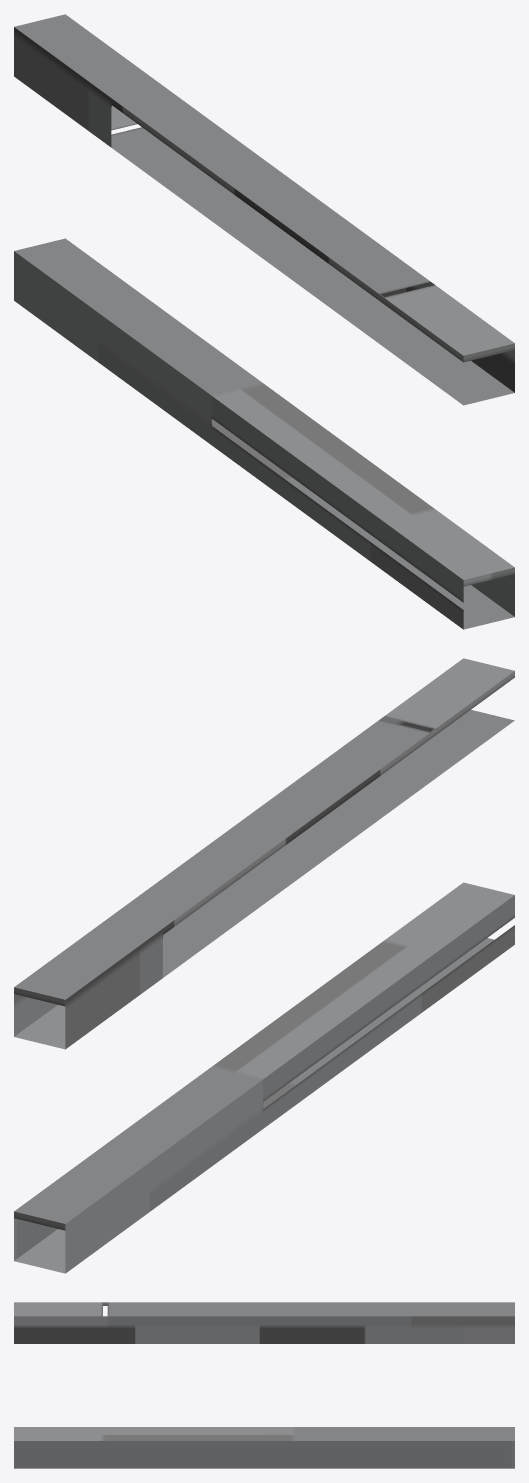
3 views of the same model, one above another, from view 1: azimuth 30°, elevation 25°; view 2: azimuth 150°, elevation 25°; view 3: azimuth 270°, elevation 25° (orthographic). The views are drawn at different scales.
Bounding box in the file's own units: 0.162 × 0.8232 × 2.45.
